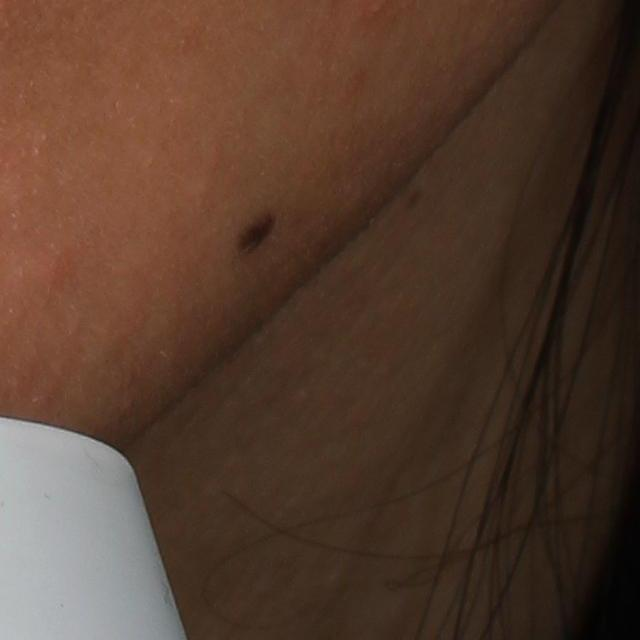nevus: (231, 208, 274, 262)
